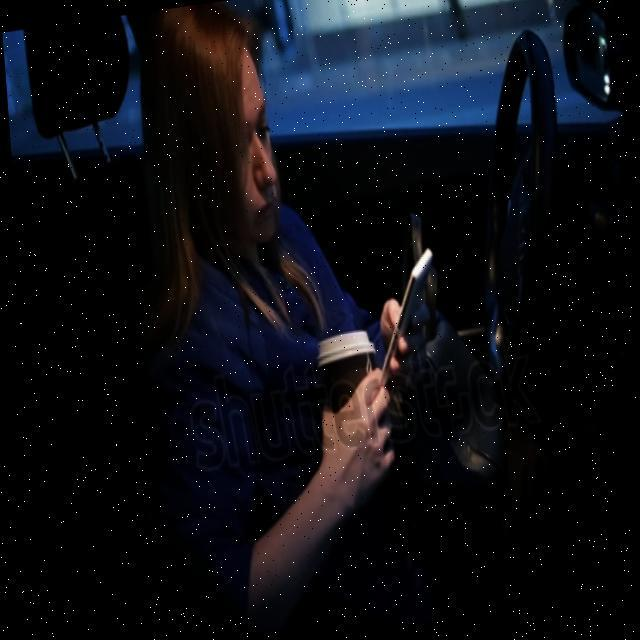Drinking: (304, 328, 392, 480)
PhoneCall: (350, 248, 450, 402)
